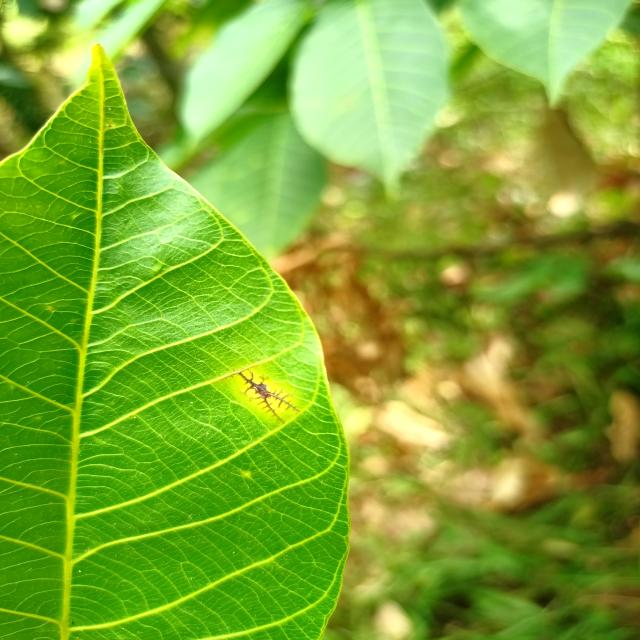Corynespora: (237, 370, 300, 422)
